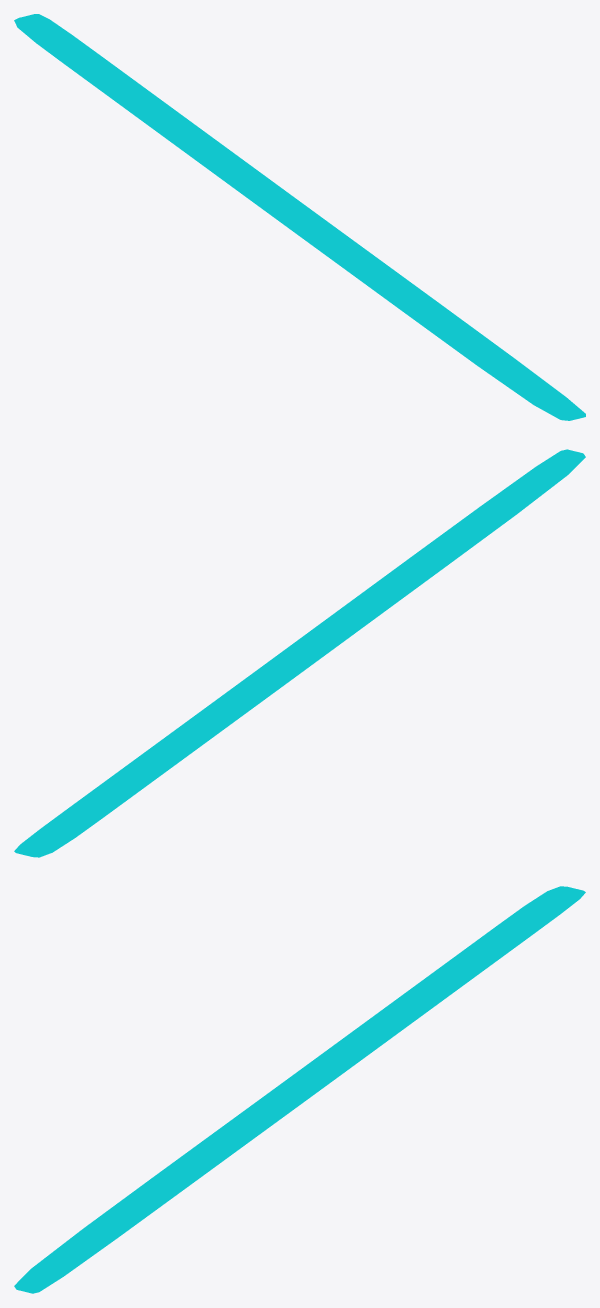
File: wawa.fbx
The picture shows the model from 3 angles, top to bottom: view 1: azimuth 30°, elevation 25°; view 2: azimuth 150°, elevation 25°; view 3: azimuth 330°, elevation 25°; orthographic projection.
Parts seen in each view (by area): view 1: wawa; view 2: wawa; view 3: wawa.
Boxes of the visible parts, box(x1,y1,x2,y2) form: wawa: box(14, 14, 585, 420); wawa: box(14, 449, 585, 857); wawa: box(14, 886, 585, 1293).
Size of the model in its own units: 2700 by 24.98 by 71478.
